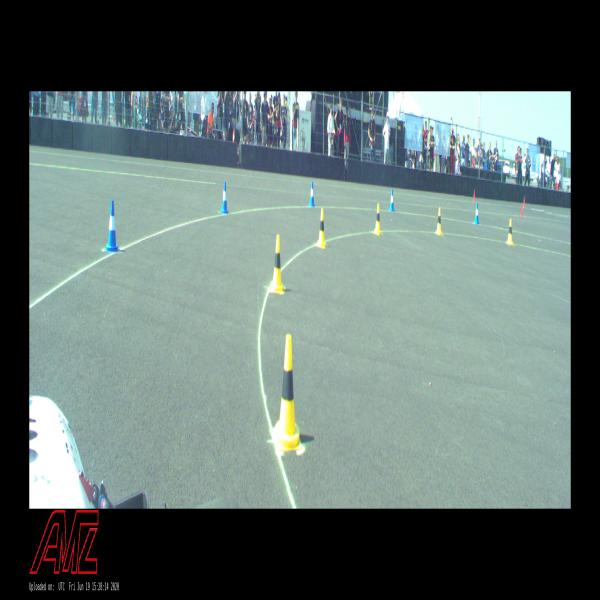blue_cone: (104, 201, 120, 251), (220, 181, 229, 214), (308, 181, 314, 206), (389, 189, 394, 211), (474, 203, 479, 224)
unknown_cone: (520, 203, 522, 216), (523, 197, 525, 208), (473, 190, 475, 201)
yellow_cone: (274, 334, 302, 450), (270, 236, 284, 294), (316, 209, 326, 248), (374, 204, 381, 234), (506, 219, 513, 244), (436, 208, 442, 234)
